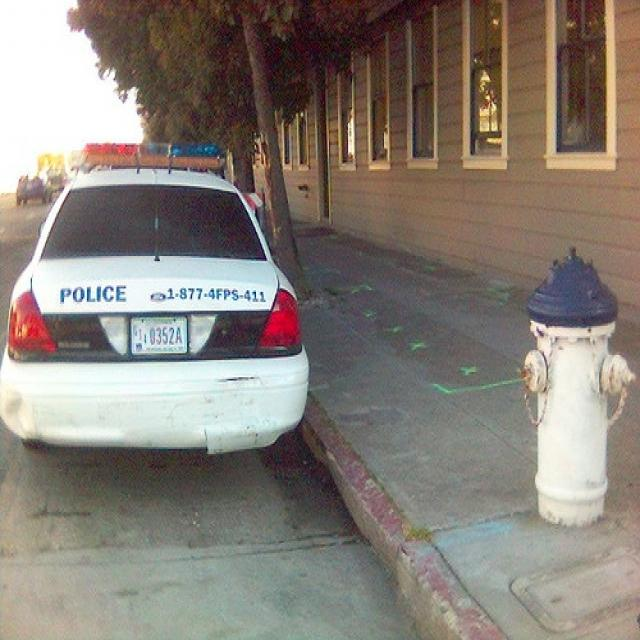car: (0, 140, 308, 455), (14, 174, 53, 205), (46, 170, 68, 188)
fire_hydrant: (517, 242, 636, 534)
pole: (240, 22, 304, 278)
